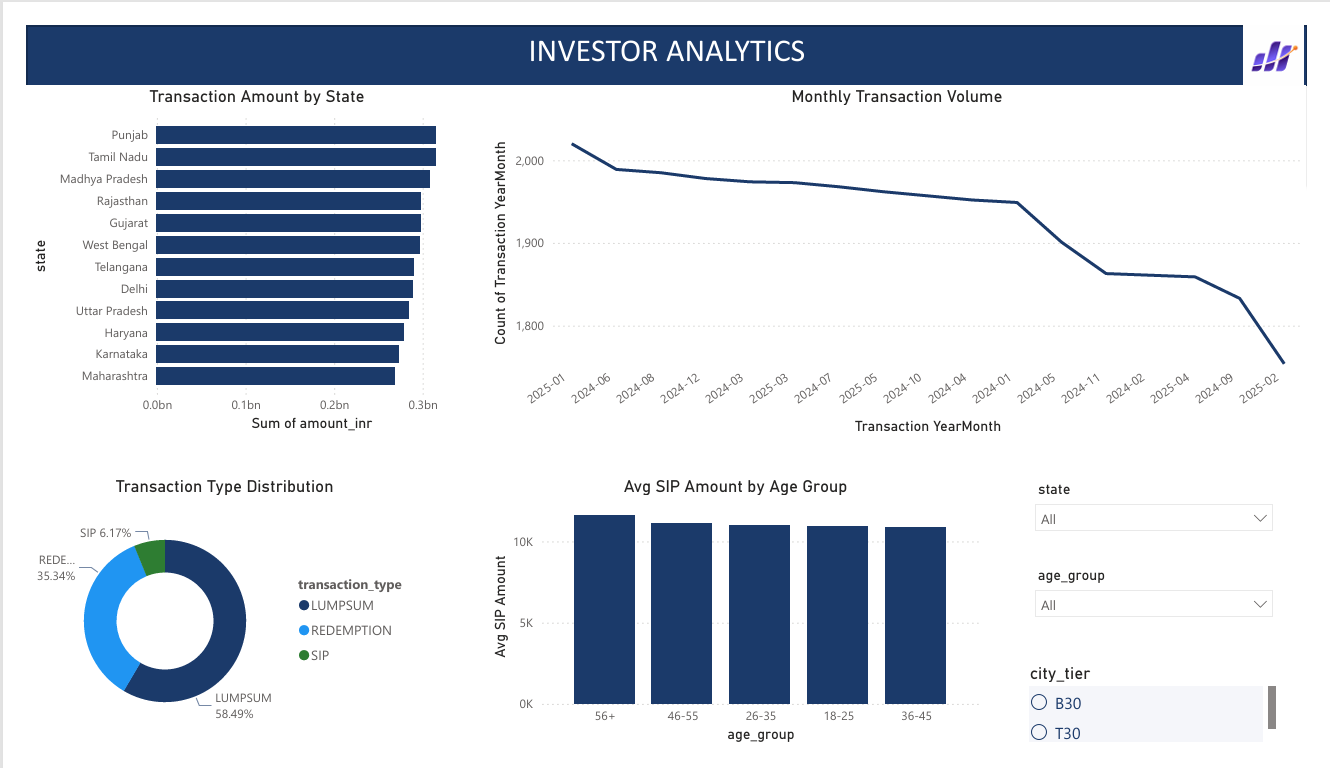

The page's visual inventory and layout, read from the dashboard file:
{"tool":"powerbi","page":{"name":"INVESTOR ANALYTICS","canvas":[1280,720],"ordinal":2},"visuals":[{"type":"shape","box":[0,0,1280,60.5],"z":0},{"type":"textbox","box":[0,0,1280,60.5],"z":1000},{"type":"clusteredBarChart","title":"Transaction Amount by State","fields":{"Category":["08_investor_transactions_clean.state"],"Y":["Sum(08_investor_transactions_clean.amount_inr)"]},"box":[0,60.5,460.3,349.4],"z":2000},{"type":"donutChart","title":"Transaction Type Distribution","fields":{"Category":["08_investor_transactions_clean.transaction_type"],"Y":["Sum(08_investor_transactions_clean.amount_inr)"]},"box":[0,450.2,394.8,270.4],"z":3000},{"type":"clusteredColumnChart","title":"Avg SIP Amount by Age Group","fields":{"Category":["08_investor_transactions_clean.age_group"],"Y":["_Measures.Avg SIP Amount"]},"box":[460.3,450.2,497.2,270.4],"z":4000},{"type":"lineChart","title":"Monthly Transaction Volume","fields":{"Category":["08_investor_transactions_clean.Transaction YearMonth"],"Y":["CountNonNull(08_investor_transactions_clean.Transaction YearMonth)"]},"box":[460,60,820,353],"z":5000},{"type":"slicer","fields":{"Values":["08_investor_transactions_clean.state"]},"box":[997.8,450.2,258.7,85.7],"z":6000},{"type":"slicer","fields":{"Values":["08_investor_transactions_clean.age_group"]},"box":[997.8,535.9,258.7,85],"z":7000},{"type":"listSlicer","fields":{"Values":["08_investor_transactions_clean.city_tier"]},"box":[997.8,636.6,257,84],"z":8000},{"type":"image","box":[1215,0,65,61],"z":9000}]}

Visuals, with their boxes in screenshot pixels (x1, y1, x2, y2), scaled from the page's 1280x720 canvas onto the 1330x768 screenshot:
shape: {"x1": 0, "y1": 0, "x2": 1329, "y2": 65}
textbox: {"x1": 0, "y1": 0, "x2": 1329, "y2": 65}
"Transaction Amount by State" clusteredBarChart: {"x1": 0, "y1": 65, "x2": 478, "y2": 437}
"Transaction Type Distribution" donutChart: {"x1": 0, "y1": 480, "x2": 410, "y2": 767}
"Avg SIP Amount by Age Group" clusteredColumnChart: {"x1": 478, "y1": 480, "x2": 995, "y2": 767}
"Monthly Transaction Volume" lineChart: {"x1": 478, "y1": 64, "x2": 1329, "y2": 441}
slicer - 08_investor_transactions_clean.state: {"x1": 1037, "y1": 480, "x2": 1306, "y2": 572}
slicer - 08_investor_transactions_clean.age_group: {"x1": 1037, "y1": 572, "x2": 1306, "y2": 662}
listSlicer - 08_investor_transactions_clean.city_tier: {"x1": 1037, "y1": 679, "x2": 1304, "y2": 767}
image: {"x1": 1262, "y1": 0, "x2": 1329, "y2": 65}
